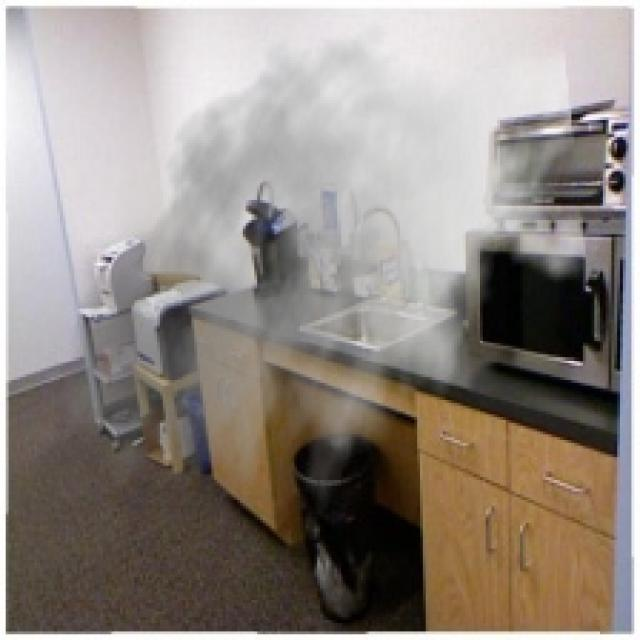smoke: (57, 6, 589, 546)
